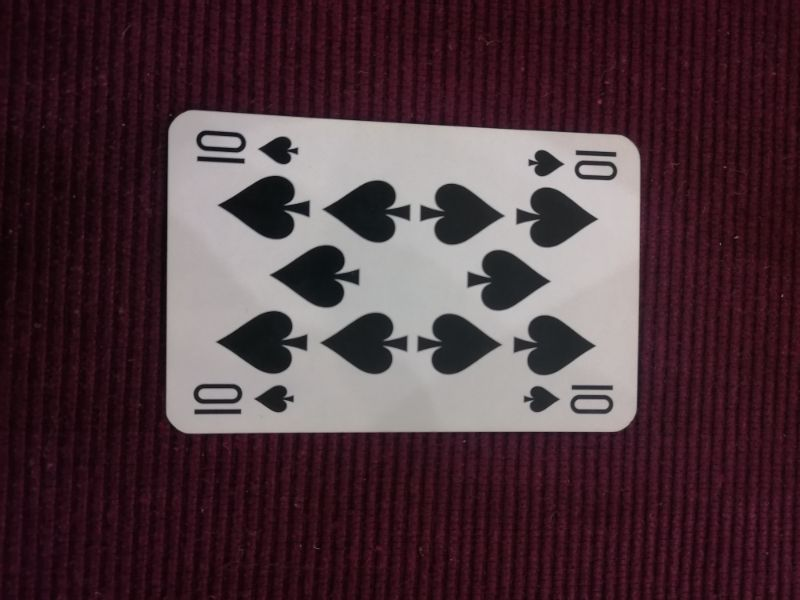Ts: (188, 124, 304, 171), (188, 380, 300, 418), (527, 142, 622, 184), (523, 380, 619, 418)
